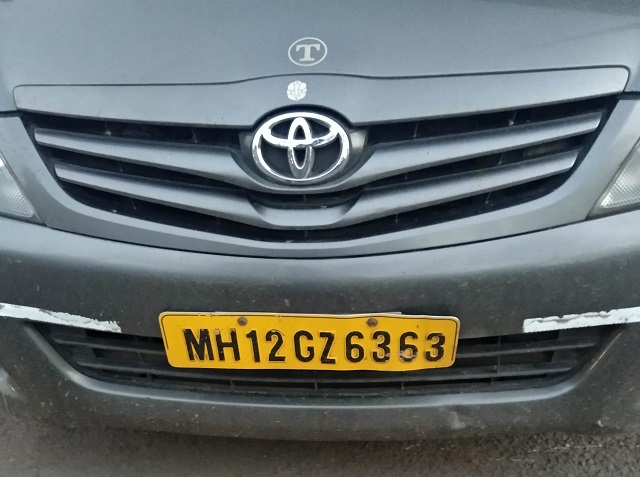licenseplate: (154, 309, 462, 372)
